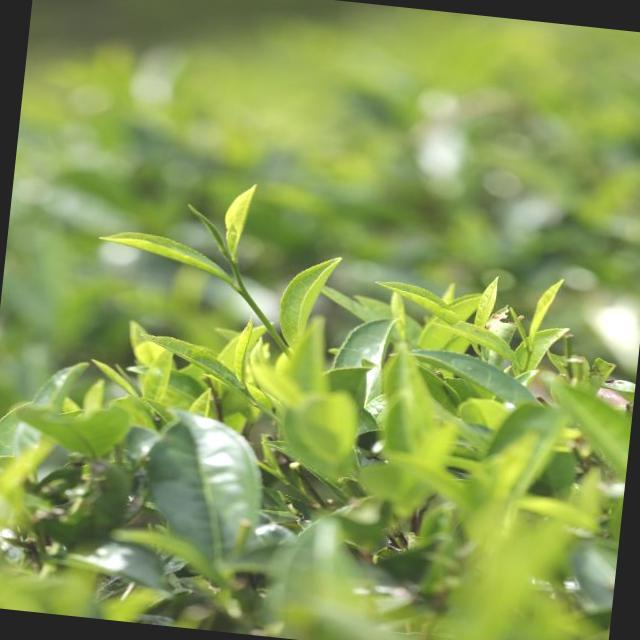Stem: (231, 263, 238, 274)
